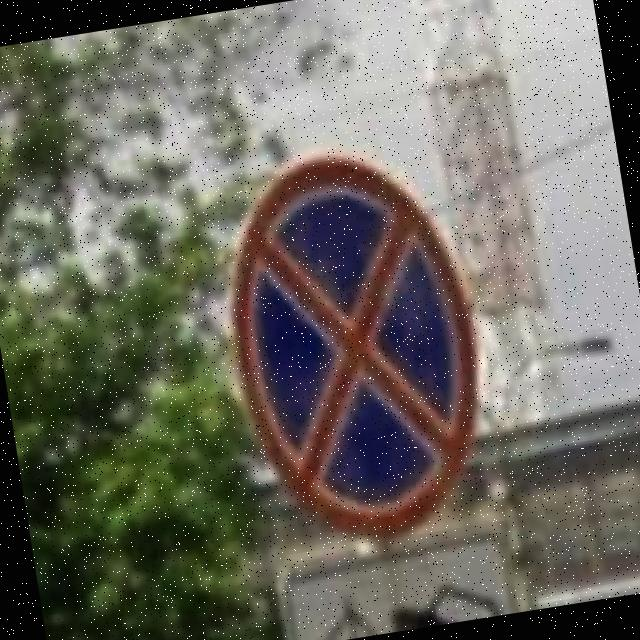Zakaz zatrzymywania sie: (208, 134, 504, 555)
